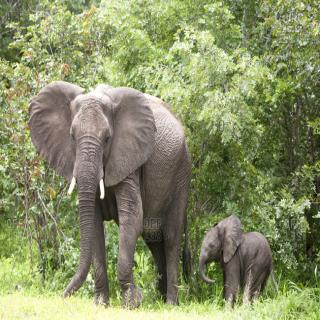Elephant: (28, 78, 195, 310), (197, 215, 283, 307)
